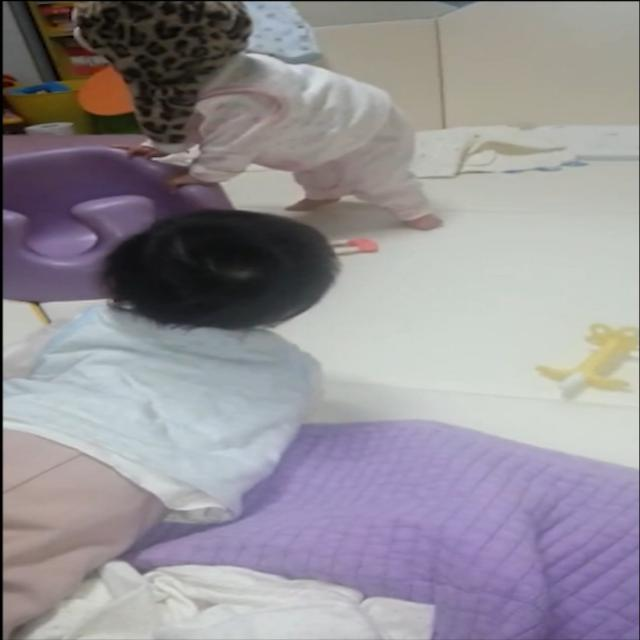child: (0, 211, 341, 639), (71, 0, 443, 232)
